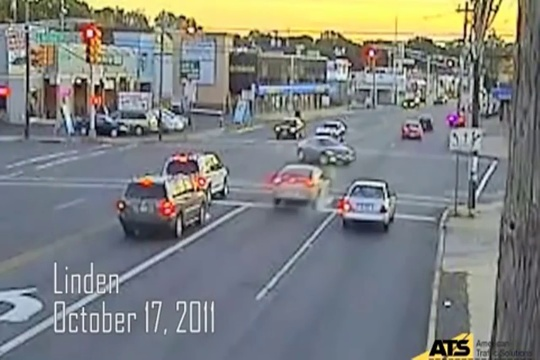car: (116, 169, 213, 239), (163, 144, 230, 200), (340, 178, 404, 230), (269, 167, 332, 200), (298, 137, 354, 166), (115, 106, 158, 132), (77, 118, 126, 139), (315, 119, 348, 139), (162, 104, 185, 131), (398, 118, 425, 139), (273, 118, 301, 135), (422, 114, 438, 129), (402, 97, 419, 111)
